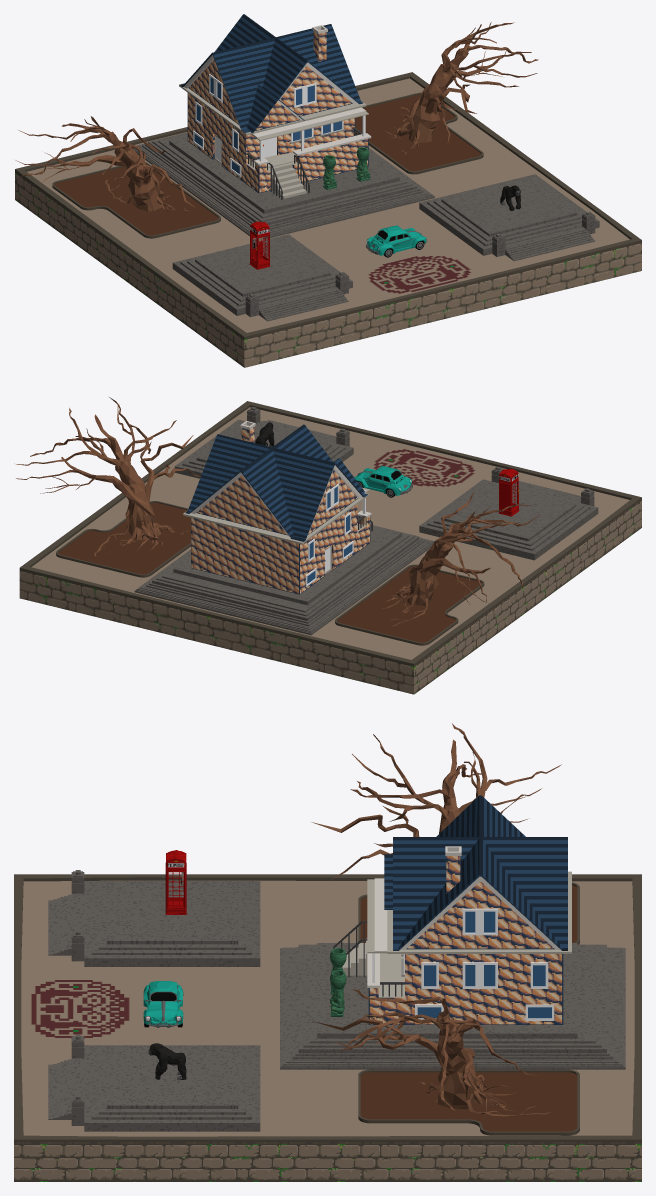
3 renders of one model, top to bottom at view 1: azimuth 30°, elevation 25°; view 2: azimuth 150°, elevation 25°; view 3: azimuth 270°, elevation 25°, orthographic. The views are drawn at different scales.
Visible parts, largest first — view 1: Cube.011, Cube.430, VEHICLES_VOLKSWAGEN, OBJRANDOM_PHONEBOOTH; view 2: Cube.011, Cube.430, VEHICLES_VOLKSWAGEN, OBJRANDOM_PHONEBOOTH; view 3: Cube.011, Cube.430, VEHICLES_VOLKSWAGEN, OBJRANDOM_PHONEBOOTH, ANIMAL_GORILA.
Boxes of the visible parts, x1=… form: Cube.011: x1=15, y1=22, x2=641, y2=367; Cube.430: x1=179, y1=14, x2=371, y2=199; VEHICLES_VOLKSWAGEN: x1=366, y1=225, x2=426, y2=257; OBJRANDOM_PHONEBOOTH: x1=249, y1=221, x2=270, y2=269; Cube.011: x1=14, y1=397, x2=641, y2=694; Cube.430: x1=183, y1=421, x2=372, y2=594; VEHICLES_VOLKSWAGEN: x1=354, y1=466, x2=412, y2=497; OBJRANDOM_PHONEBOOTH: x1=498, y1=468, x2=519, y2=516; Cube.011: x1=14, y1=723, x2=641, y2=1181; Cube.430: x1=333, y1=795, x2=571, y2=1024; VEHICLES_VOLKSWAGEN: x1=143, y1=981, x2=183, y2=1027; OBJRANDOM_PHONEBOOTH: x1=165, y1=850, x2=186, y2=914; ANIMAL_GORILA: x1=148, y1=1043, x2=186, y2=1080.
Size of the model in its own units: 5099 by 1610 by 4000.
Materials: 39 (7 with a texture image).
